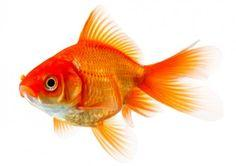goldfish: (16, 31, 208, 148)
